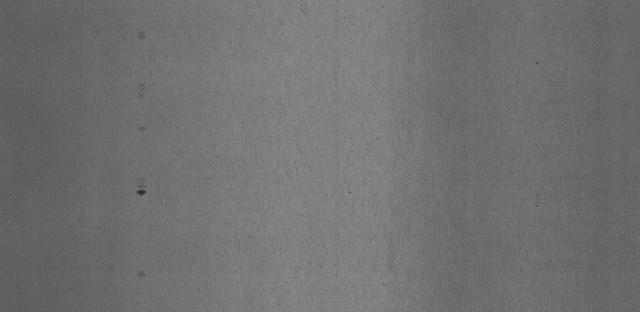oil_spot: (133, 79, 148, 101), (135, 177, 149, 198), (138, 123, 149, 137), (138, 25, 147, 41), (135, 269, 147, 281)
